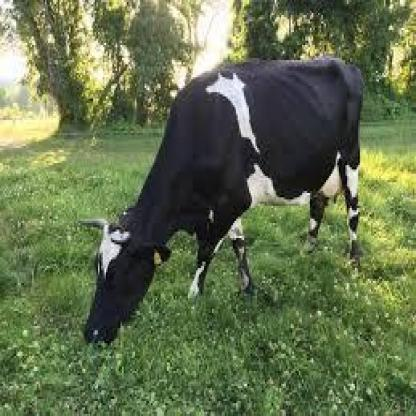cow: (78, 56, 365, 345)
